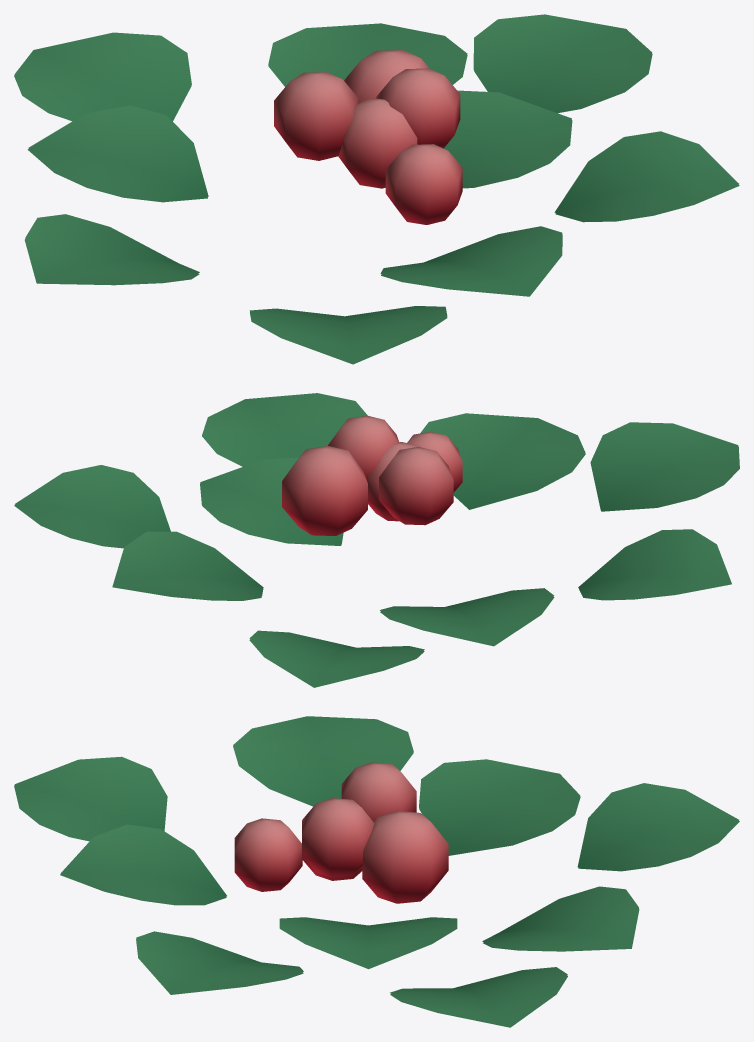
The model's file is ing_wintergreen.glb.
3 views of the same model, one above another, from view 1: azimuth 30°, elevation 25°; view 2: azimuth 150°, elevation 25°; view 3: azimuth 270°, elevation 25° (orthographic). The views are drawn at different scales.
Visible parts, largest first — view 1: ing_wintergreen; view 2: ing_wintergreen; view 3: ing_wintergreen.
Part boxes in pixels (box(x1,y1,x2,y2)): ing_wintergreen: box(14, 14, 739, 364); ing_wintergreen: box(14, 393, 739, 687); ing_wintergreen: box(14, 716, 739, 1027).
Size of what is drawn, in the model's own units: 0.383 by 0.0703 by 0.3787.
